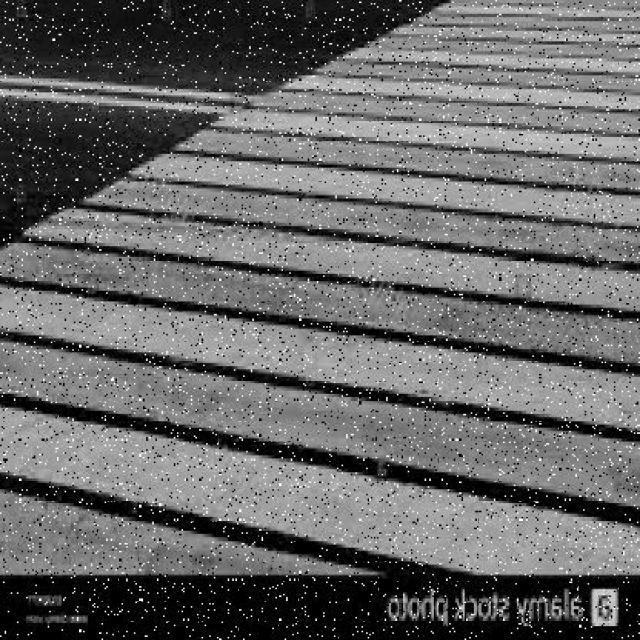Pedestrian crosswalk: (2, 0, 640, 580)
